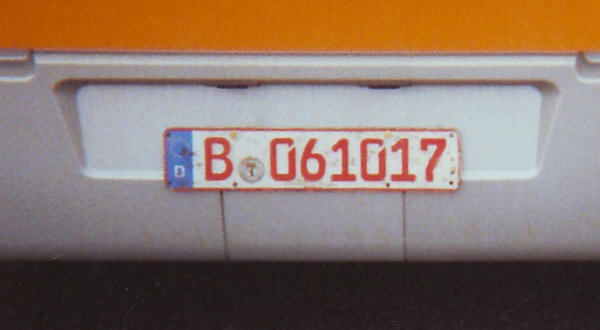license_plate: (163, 126, 461, 193)
